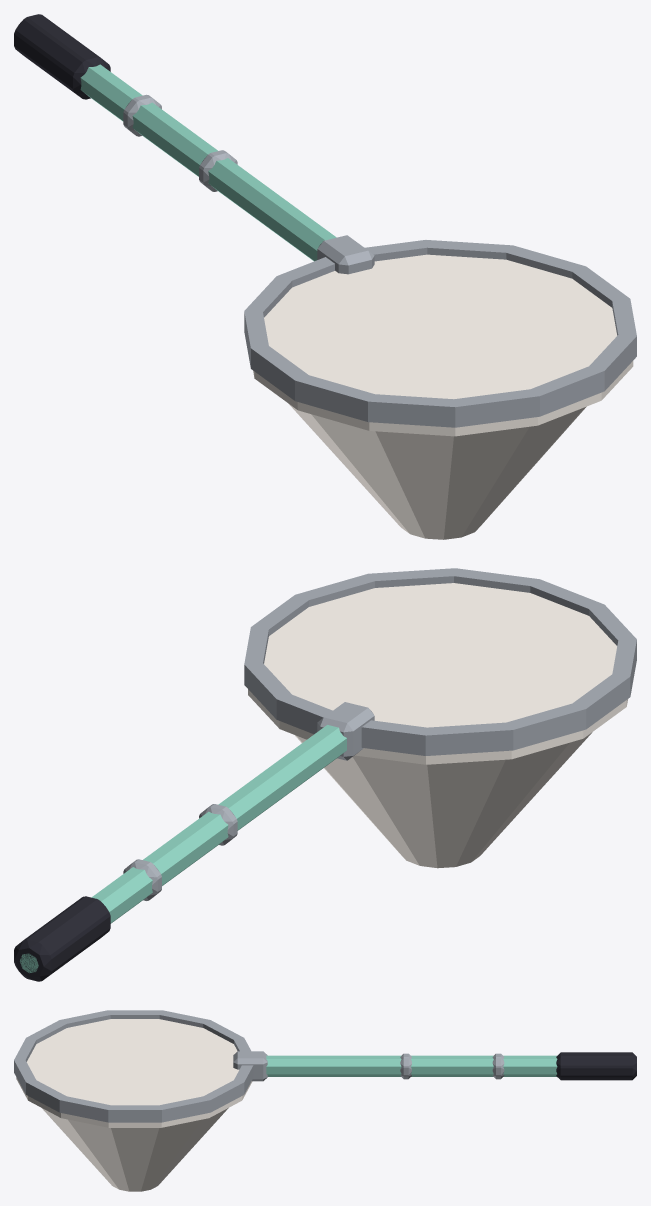
Rendered from CatCafe_Item_Net_L2.fbx.
The picture shows the model from 3 angles, top to bottom: view 1: azimuth 30°, elevation 25°; view 2: azimuth 150°, elevation 25°; view 3: azimuth 270°, elevation 25°; orthographic projection. The views are drawn at different scales.
Parts seen in each view (by area): view 1: CatCafe_Item_Net_L2_Bag, CatCafe_Item_Net_L2_Handle; view 2: CatCafe_Item_Net_L2_Bag, CatCafe_Item_Net_L2_Handle; view 3: CatCafe_Item_Net_L2_Bag, CatCafe_Item_Net_L2_Handle.
Part boxes in pixels (box(x1,y1,x2,y2)): CatCafe_Item_Net_L2_Bag: box(253, 254, 633, 539); CatCafe_Item_Net_L2_Handle: box(14, 14, 636, 427); CatCafe_Item_Net_L2_Bag: box(248, 583, 627, 868); CatCafe_Item_Net_L2_Handle: box(14, 568, 636, 981); CatCafe_Item_Net_L2_Bag: box(16, 1019, 252, 1191); CatCafe_Item_Net_L2_Handle: box(14, 1010, 636, 1122).
Size of the model in its own units: 2.05 by 1.22 by 5.4.
Materials: 1 (1 with a texture image).
